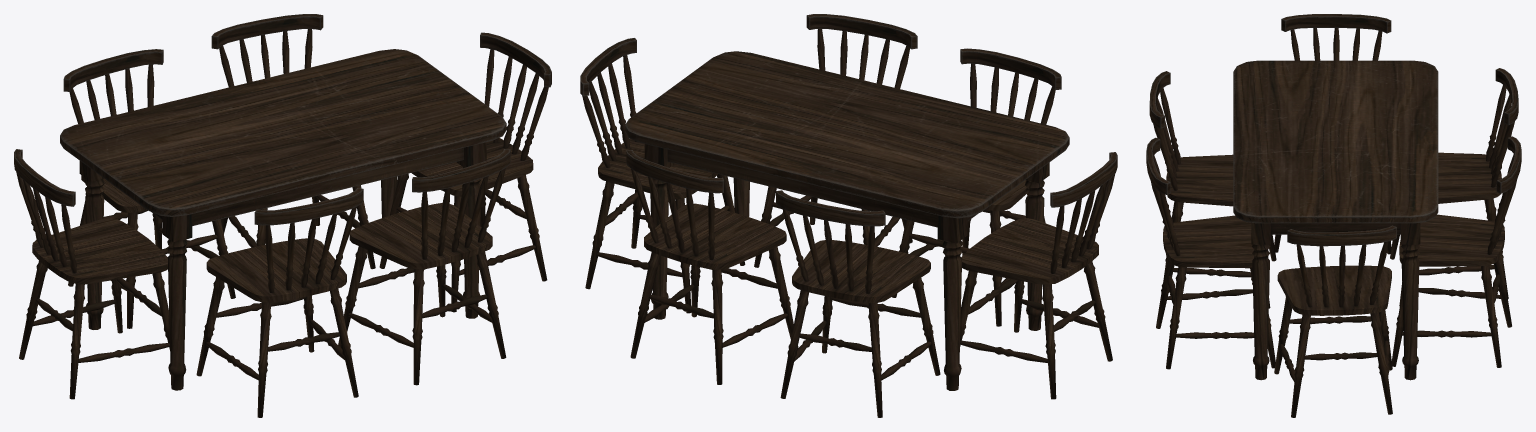
The model's file is table_and_chairs.glb.
3 views of the same model, side by side, from view 1: azimuth 30°, elevation 25°; view 2: azimuth 150°, elevation 25°; view 3: azimuth 270°, elevation 25° (orthographic). The views are drawn at different scales.
Visible parts, largest first — view 1: Mesa, Cadeira.004, Cadeira.005, Cadeira, Cadeira.003, Cadeira.001, Cadeira.002; view 2: Mesa, Cadeira.002, Cadeira.001, Cadeira, Cadeira.003, Cadeira.005, Cadeira.004; view 3: Mesa, Cadeira.003, Cadeira.004, Cadeira.002, Cadeira.001, Cadeira.005, Cadeira.
Boxes of the visible parts, x1,y1,x2,y2 form: Mesa: (60, 49, 506, 390); Cadeira.004: (338, 149, 510, 385); Cadeira.005: (196, 188, 363, 417); Cadeira: (14, 149, 169, 399); Cadeira.003: (379, 32, 551, 312); Cadeira.001: (63, 49, 235, 328); Cadeira.002: (211, 14, 375, 269); Mesa: (625, 51, 1069, 390); Cadeira.002: (626, 150, 793, 384); Cadeira.001: (776, 190, 940, 417); Cadeira: (960, 152, 1117, 399); Cadeira.003: (580, 38, 745, 313); Cadeira.005: (892, 48, 1061, 326); Cadeira.004: (754, 14, 917, 267); Mesa: (1233, 60, 1438, 380); Cadeira.003: (1274, 225, 1396, 417); Cadeira.004: (1146, 137, 1275, 369); Cadeira.002: (1391, 136, 1521, 367); Cadeira.001: (1390, 68, 1518, 306); Cadeira.005: (1149, 71, 1276, 308); Cadeira: (1274, 14, 1391, 254).
Bounding box in the file's own units: 2.13 × 0.8456 × 1.53.
1 material, 1 textured.
